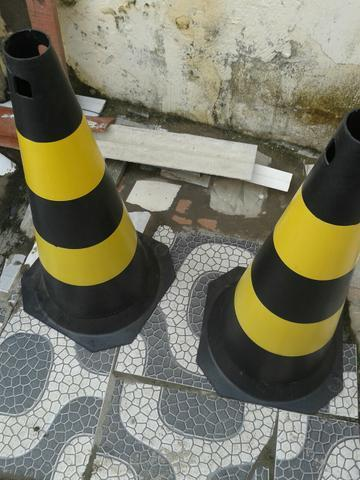traffic cone: (0, 29, 175, 353)
